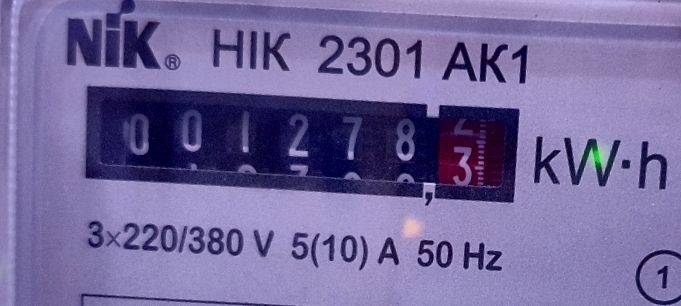0: (123, 108, 156, 158), (175, 105, 207, 155)
1: (234, 106, 258, 155)
2: (283, 111, 315, 161), (450, 115, 476, 137)
3: (446, 142, 478, 189)
7: (335, 113, 363, 162)
8: (391, 116, 420, 163)
screen: (60, 40, 544, 247)
